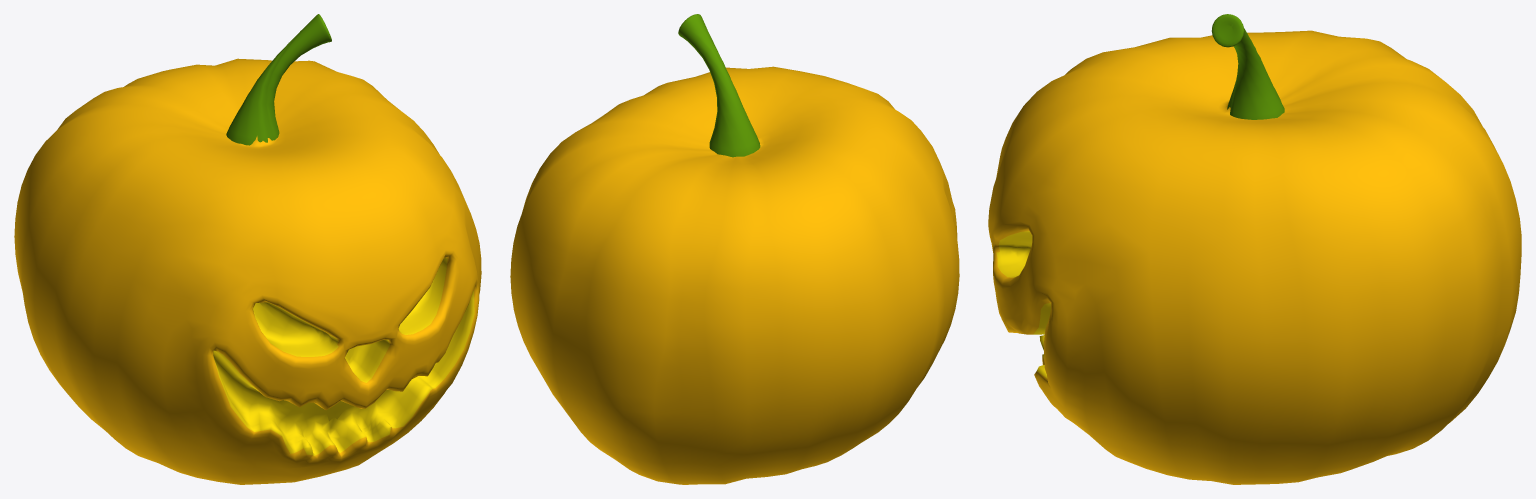
File: pumpkin.glb
3 renders of one model, left to right at view 1: azimuth 30°, elevation 25°; view 2: azimuth 150°, elevation 25°; view 3: azimuth 270°, elevation 25°, orthographic. The views are drawn at different scales.
Visible parts, largest first — view 1: Pumpins; view 2: Pumpins; view 3: Pumpins.
Part boxes in pixels (left/top/right/bottom): Pumpins: left=14, top=14, right=481, bottom=484; Pumpins: left=510, top=14, right=959, bottom=484; Pumpins: left=988, top=14, right=1521, bottom=484.
Size of the model in its own units: 0.5793 by 0.5891 by 0.6267.
